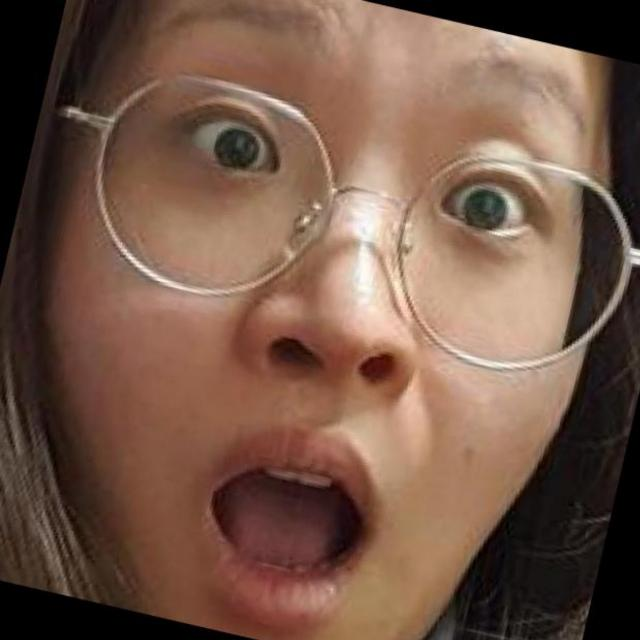Surprised: (12, 5, 640, 640)
